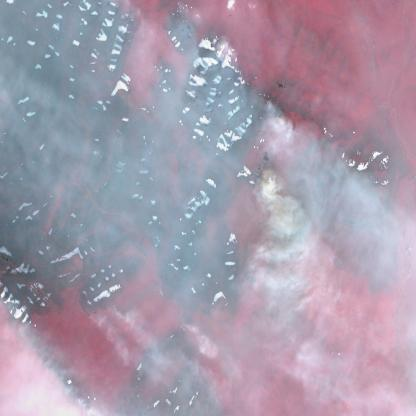fire: (252, 144, 281, 193), (261, 101, 287, 138)
